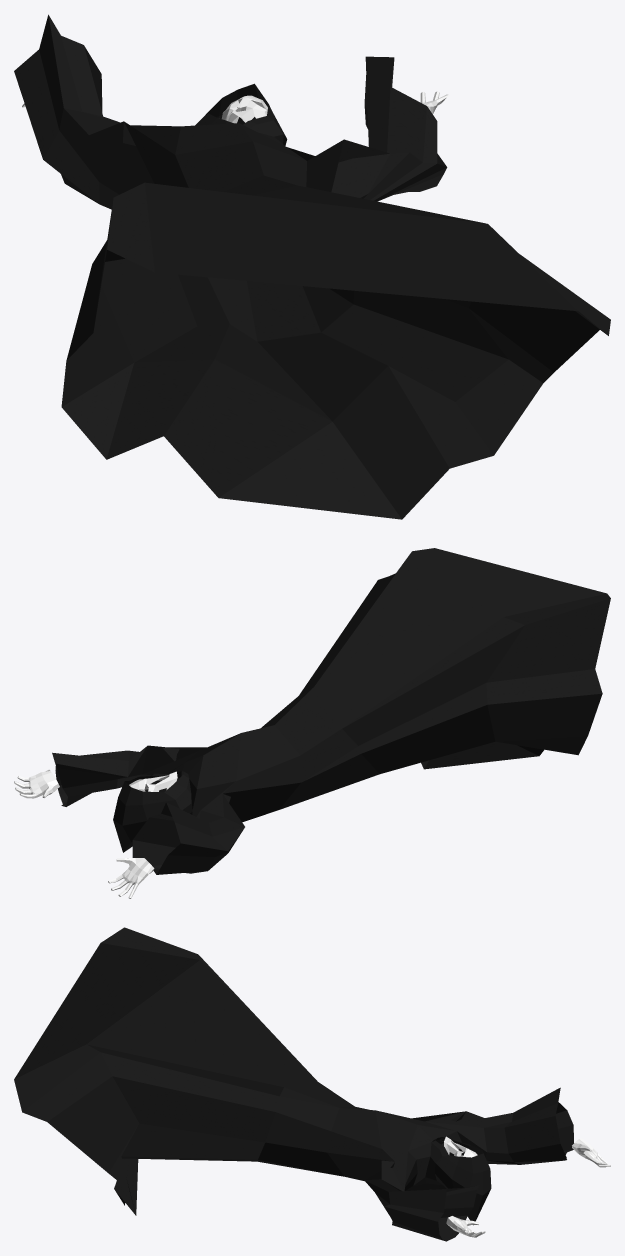
Rendered from ReaperDead(102).obj.
3 renders of one model, top to bottom at view 1: azimuth 30°, elevation 25°; view 2: azimuth 150°, elevation 25°; view 3: azimuth 270°, elevation 25°, orthographic. The views are drawn at different scales.
Parts seen in each view (by area): view 1: Plane003; view 2: Plane003; view 3: Plane003.
Boxes of the visible parts, x1,y1,x2,y2 form: Plane003: [14, 14, 610, 519]; Plane003: [14, 548, 610, 898]; Plane003: [14, 927, 610, 1241].
Bounding box in the file's own units: 212 × 106 × 293.
